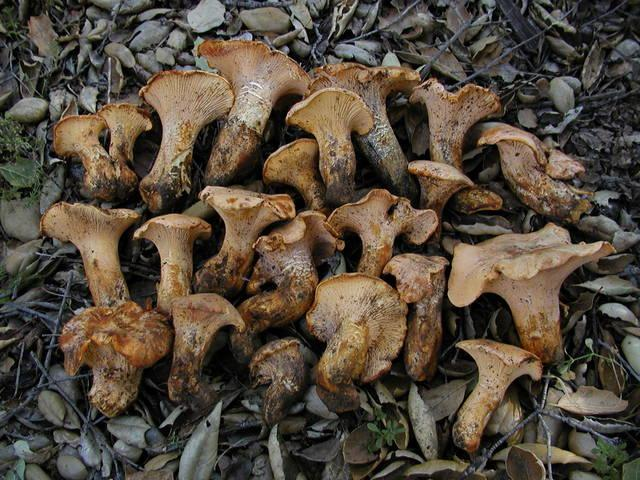Edible Mushroom: (39, 37, 615, 452)
